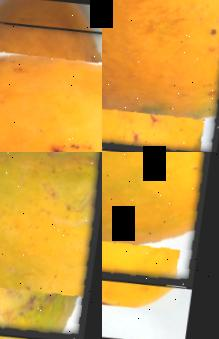PartiallyRipe: (0, 152, 102, 339), (102, 152, 219, 291)
Ripe: (102, 0, 219, 152), (0, 17, 102, 152)
